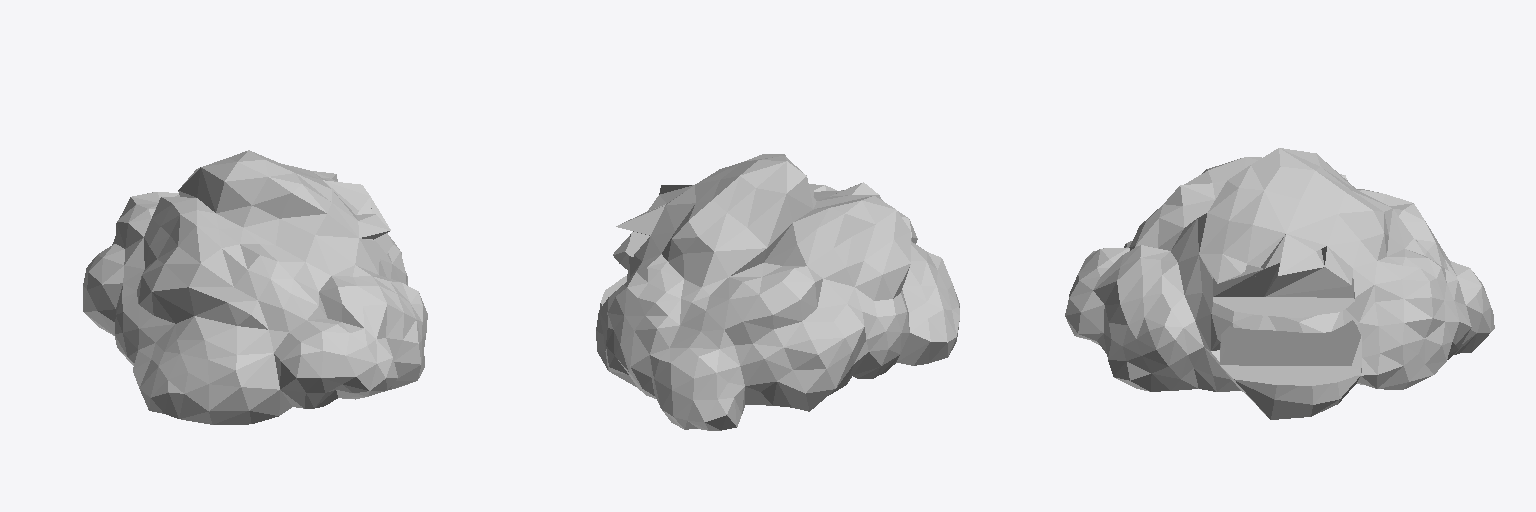
File: DuplicateRune.obj
The picture shows the model from 3 angles: view 1: azimuth 30°, elevation 25°; view 2: azimuth 150°, elevation 25°; view 3: azimuth 270°, elevation 25°; orthographic projection.
Parts seen in each view (by area): view 1: polySurface85; view 2: polySurface85; view 3: polySurface85.
Part boxes in pixels (bbox=[...]): polySurface85: bbox=[83, 150, 427, 424]; polySurface85: bbox=[596, 154, 959, 430]; polySurface85: bbox=[1065, 148, 1494, 419].
Size of the model in its own units: 2.8 by 1.79 by 3.52.